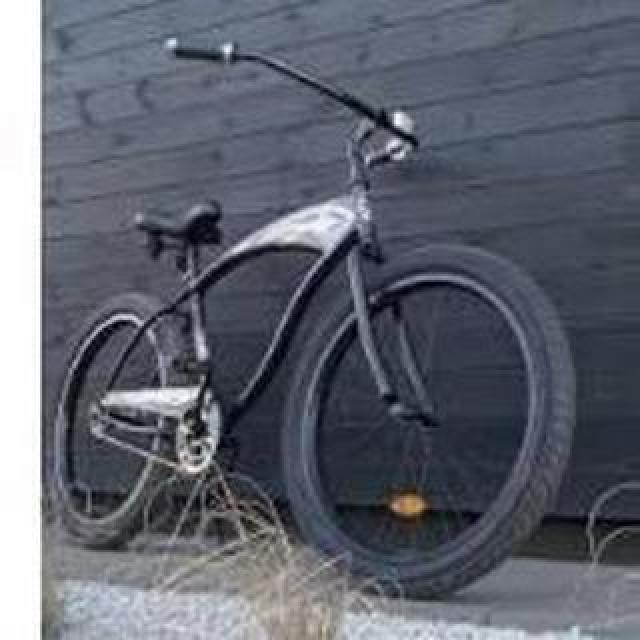Person: (45, 39, 589, 597)
